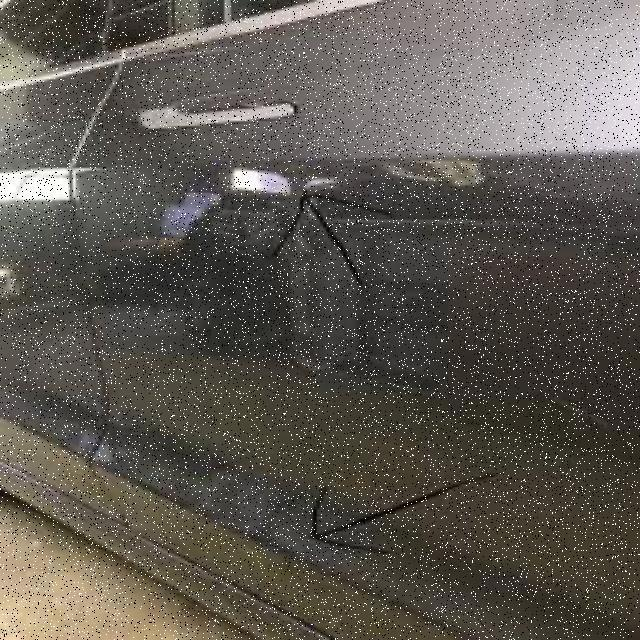fender: (89, 57, 634, 611)
